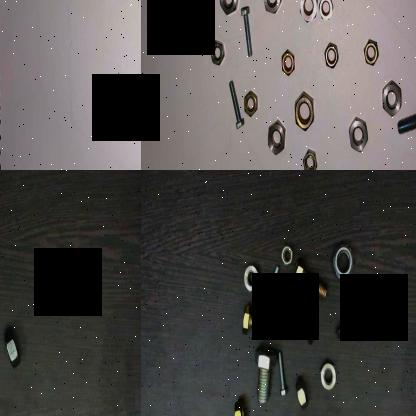Bolts: (246, 340, 276, 403), (290, 258, 329, 298), (223, 78, 247, 130), (236, 302, 270, 336), (260, 261, 282, 306), (240, 0, 254, 60), (393, 102, 416, 136), (291, 317, 314, 347), (275, 350, 287, 398)
NUTS: (0, 326, 24, 376), (289, 89, 316, 130), (318, 356, 344, 394), (380, 78, 402, 118), (330, 240, 352, 280), (266, 116, 286, 158), (346, 115, 368, 153), (292, 372, 310, 412), (240, 263, 260, 292), (297, 0, 319, 24), (321, 43, 339, 72), (279, 46, 295, 78), (362, 36, 378, 66), (243, 87, 257, 118), (209, 38, 224, 66), (317, 0, 333, 23), (215, 0, 239, 15), (280, 242, 294, 266), (260, 0, 282, 15), (333, 320, 350, 338), (302, 150, 316, 170), (232, 397, 246, 416), (180, 0, 197, 8)
